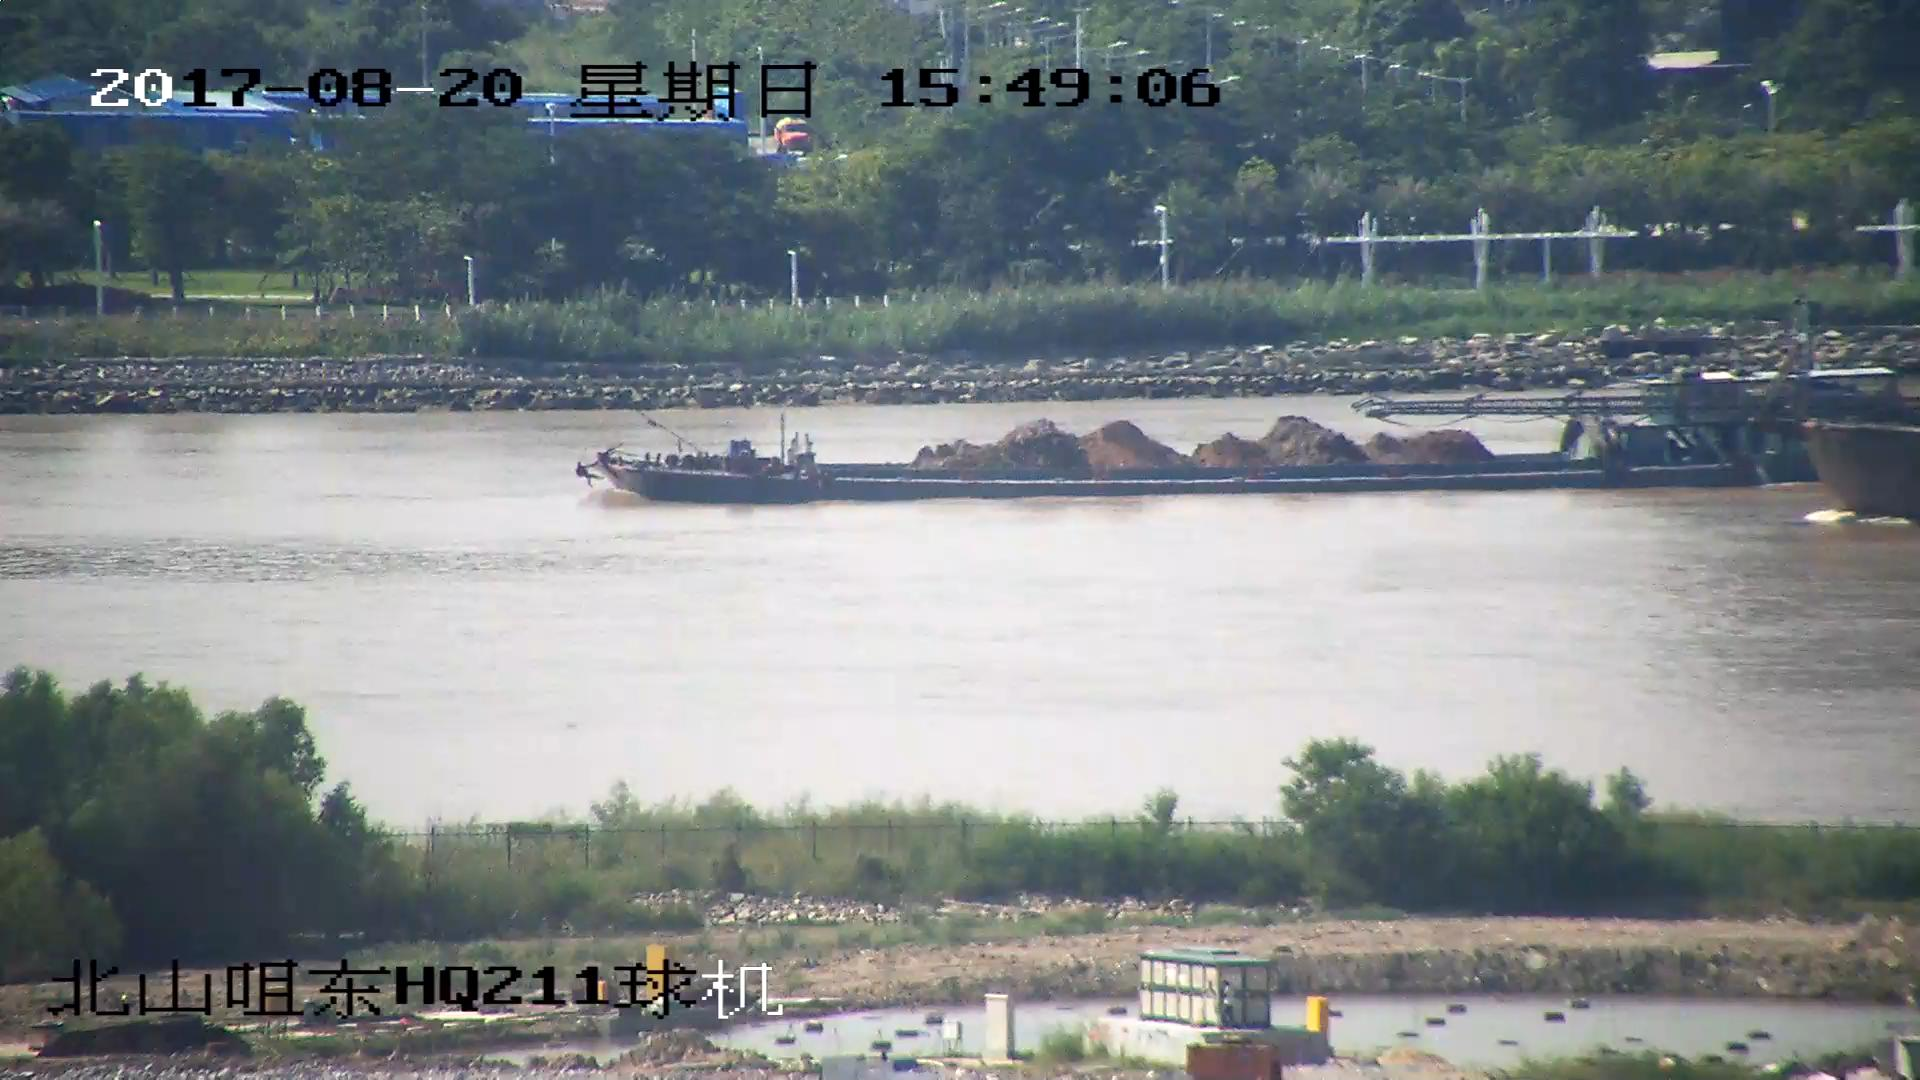bulk cargo carrier: (1368, 324, 1920, 518)
ore carrier: (574, 365, 1897, 505)
